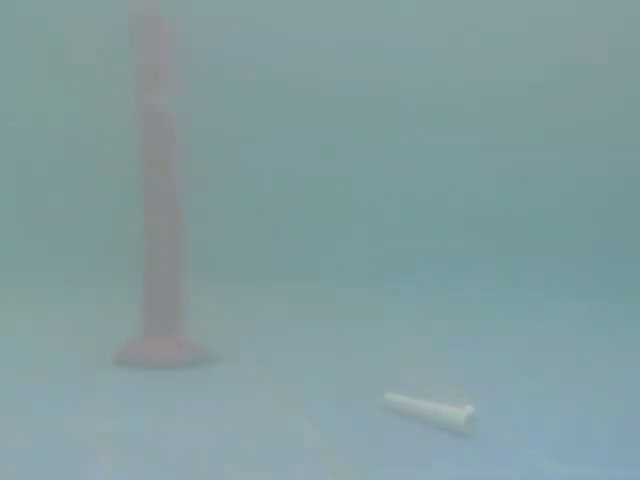flare: (110, 0, 227, 379)
